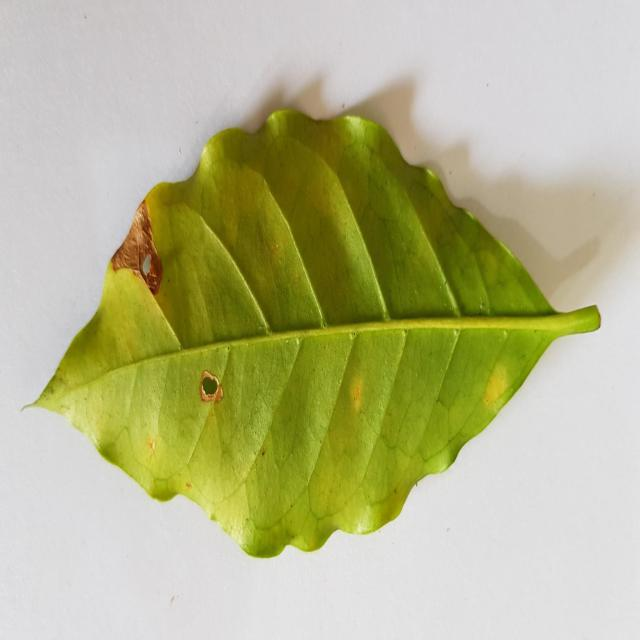Plaga-Minador: (28, 109, 603, 562)
